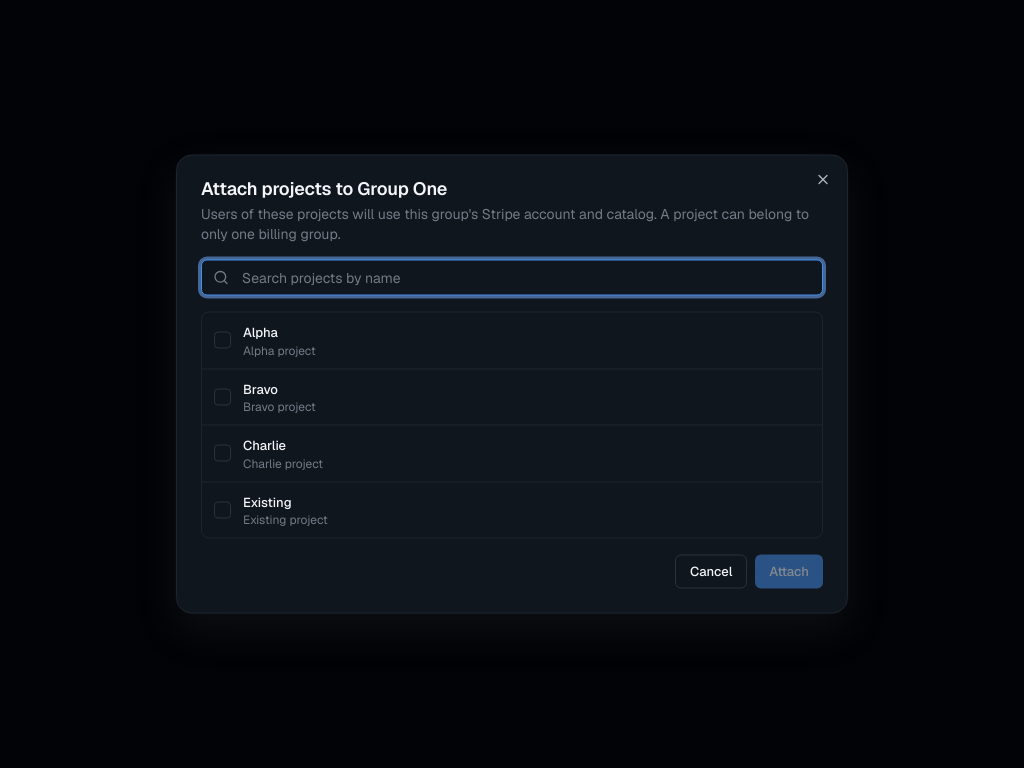
Test: BillingAttachProjectsModal › reports attached / conflict / failed per row and via summary toasts
This screenshot has width=1024, height=768.
Expected: the text "Alpha" is shown, [243,324,278,340]
Step 1. Click the checkbox named "Select Alpha" → click(222, 340), box [214,332,231,349]
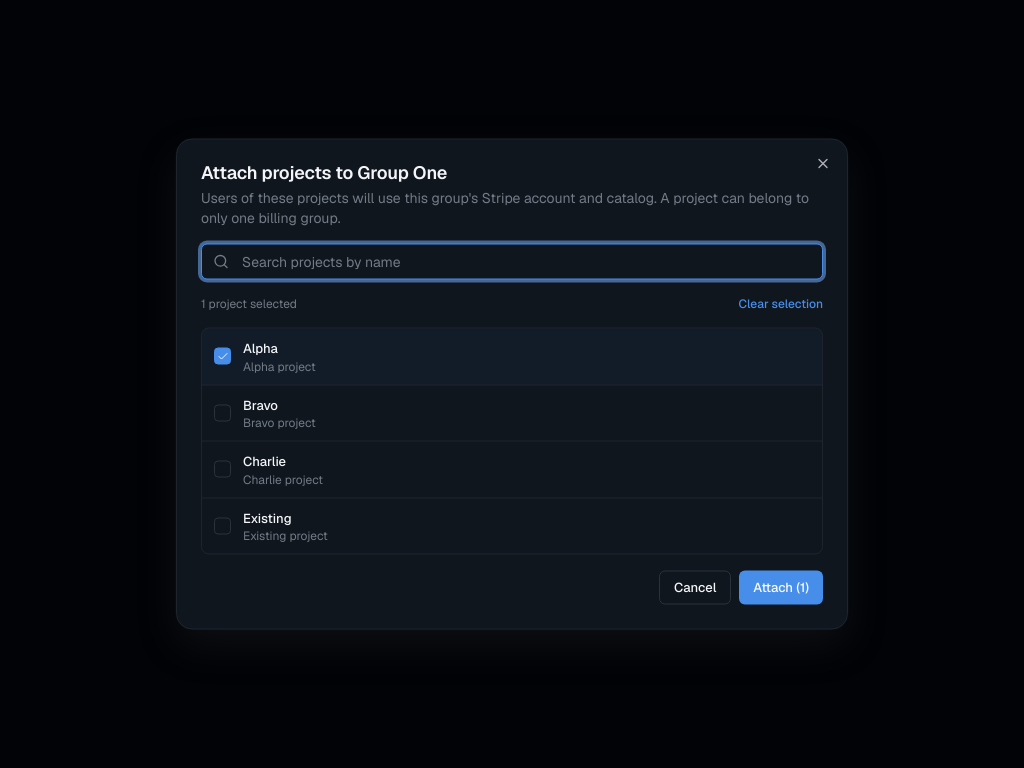
Step 2. Click the checkbox named "Select Bravo" → click(222, 413), box [214,404,231,421]
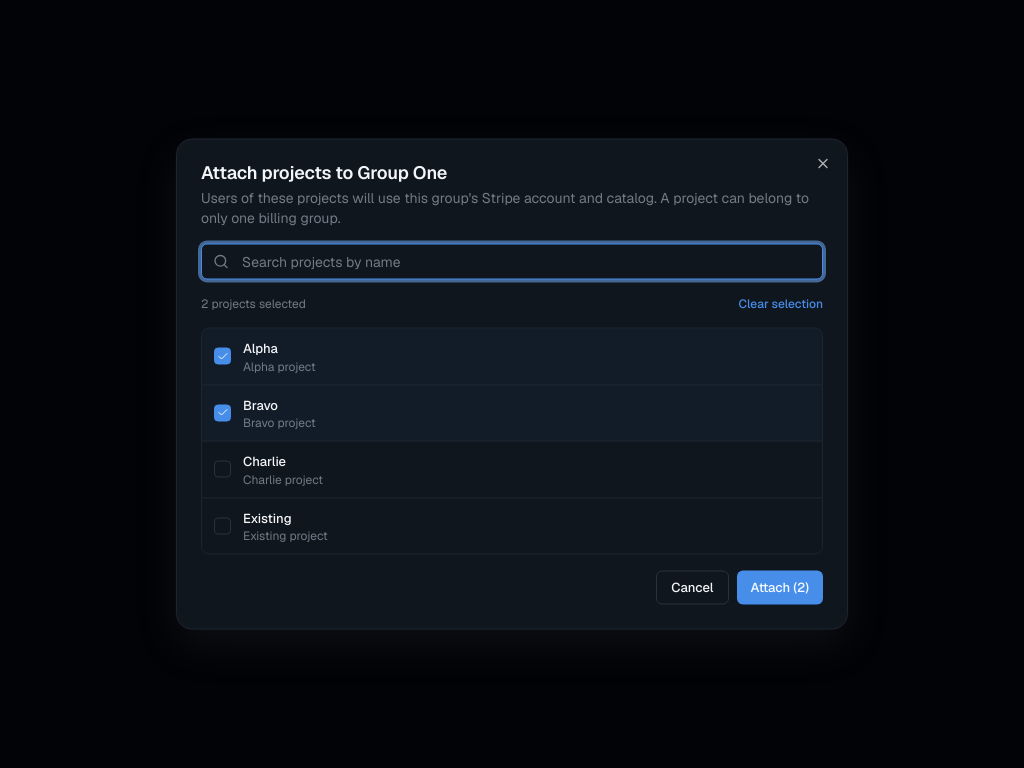
Step 3. Click the checkbox named "Select Charlie" → click(222, 469), box [214,461,231,478]
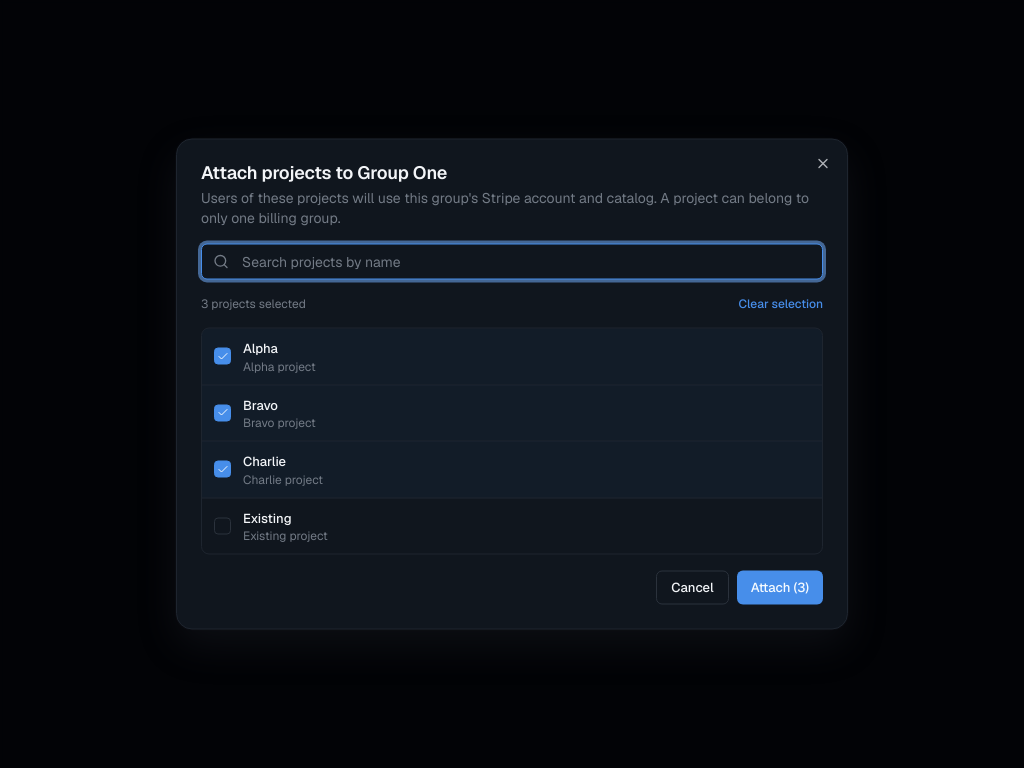
Step 4. Click the button "Attach (3)" → click(780, 588), box [737,570,823,604]
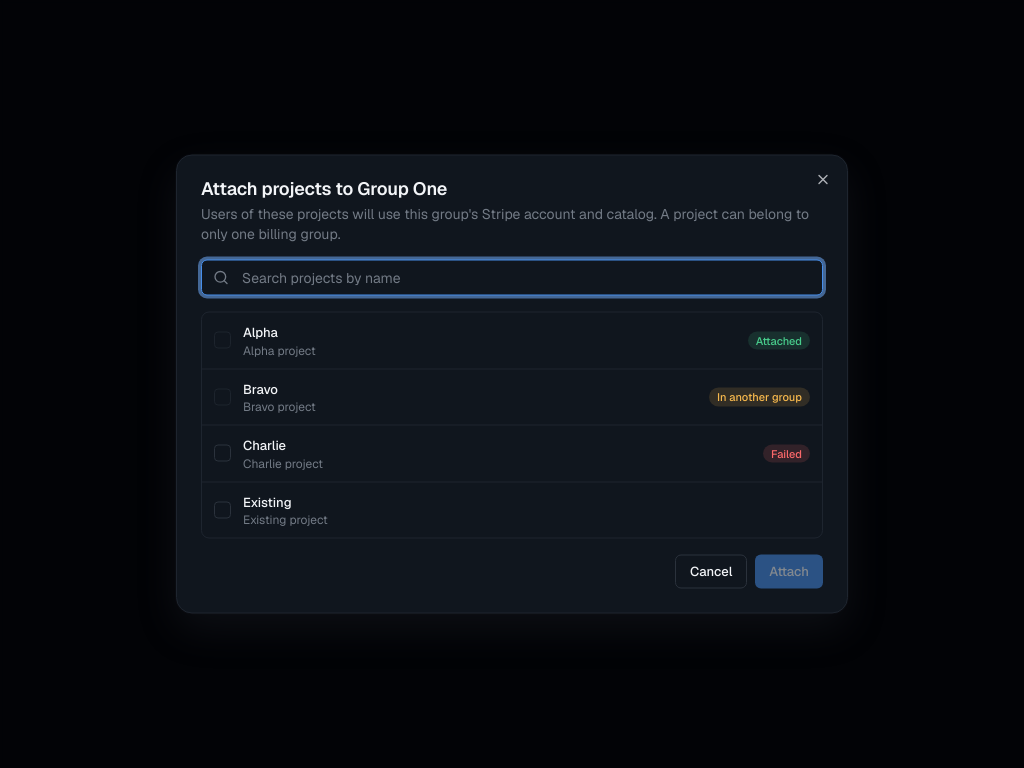
Now the text "Attached" is shown, box [748,331,810,350]
Now the text "In another group" is shown, box [709,388,810,406]
Now the text "Failed" is shown, box [763,444,810,462]
